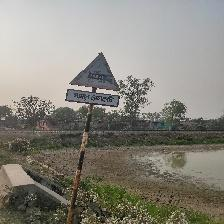Rail-crossing: (67, 53, 121, 107)
